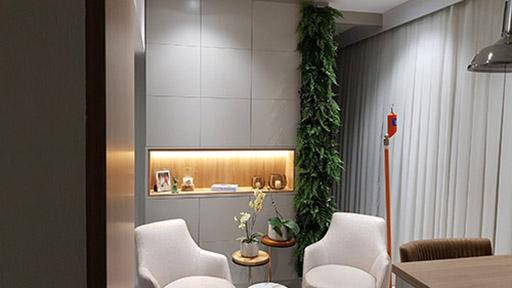Detector_Tensao_Contato: (386, 103, 398, 140)
Vara_Manobra: (382, 137, 393, 288)
